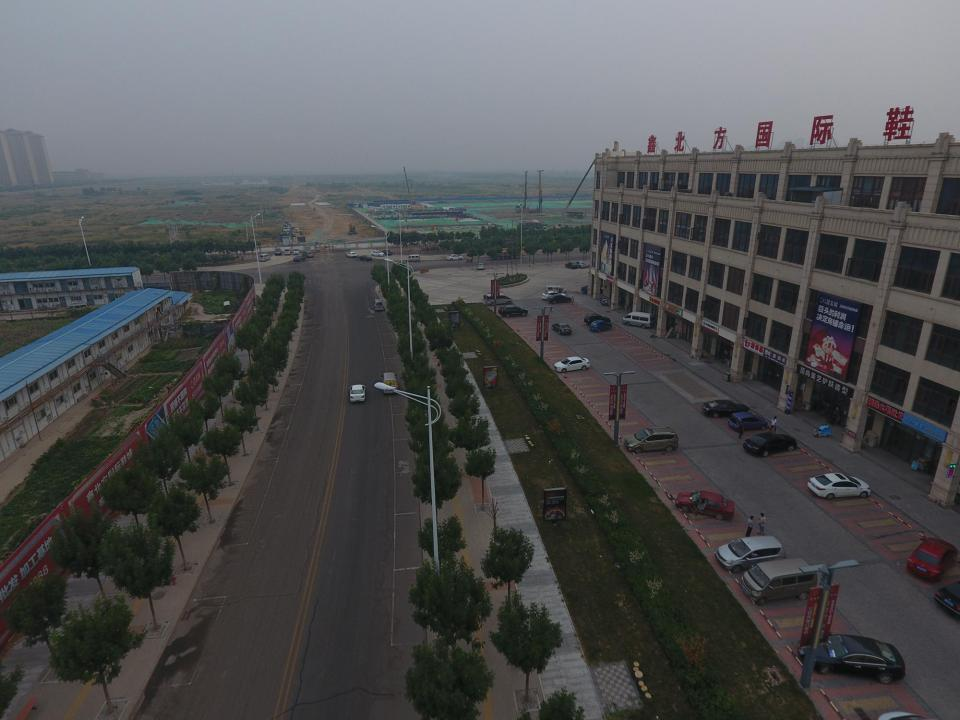car: (798, 632, 906, 685), (714, 535, 786, 573), (906, 536, 959, 582), (808, 472, 872, 501), (675, 491, 735, 521), (624, 427, 679, 454), (743, 432, 797, 458), (702, 400, 752, 418), (728, 412, 768, 432), (554, 356, 590, 373), (499, 304, 528, 318), (348, 384, 366, 402), (590, 320, 612, 332), (552, 322, 572, 335), (584, 314, 610, 324), (547, 294, 570, 304), (541, 291, 566, 299), (484, 292, 506, 298), (446, 254, 463, 260), (564, 262, 578, 268), (292, 256, 306, 262), (359, 255, 372, 261), (302, 251, 313, 258), (575, 262, 587, 268), (371, 251, 385, 256), (346, 252, 357, 258), (477, 262, 485, 270), (382, 249, 392, 255), (294, 228, 298, 232)
truck: (490, 246, 525, 259)
van: (740, 556, 818, 606), (622, 312, 655, 330), (381, 373, 398, 394), (485, 294, 512, 305), (545, 285, 565, 296), (374, 298, 383, 312), (406, 254, 421, 262), (258, 254, 270, 262), (274, 248, 281, 255), (292, 248, 299, 255), (285, 249, 291, 255)
